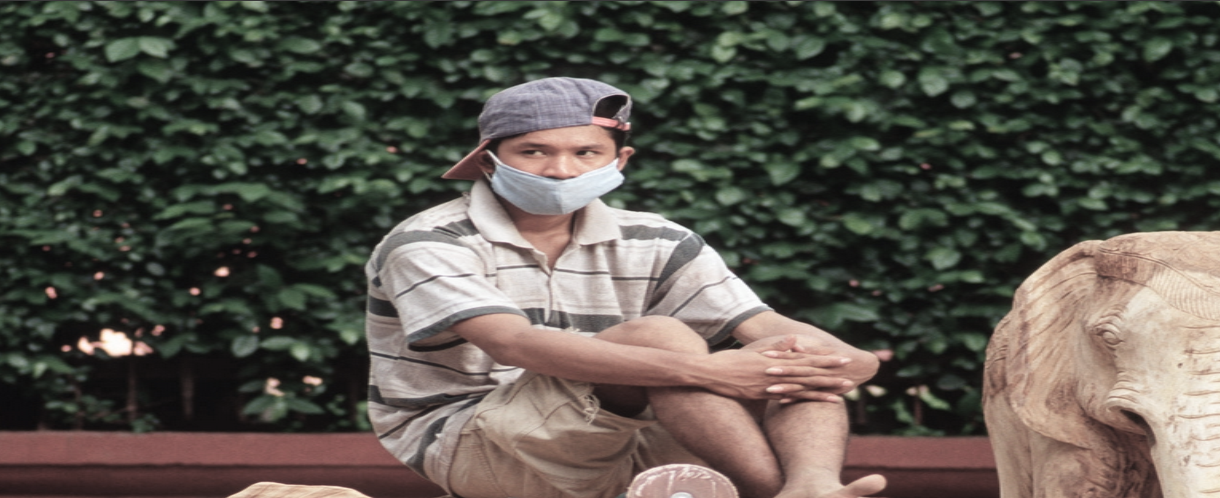mask_weared_incorrect: (452, 75, 641, 227)
